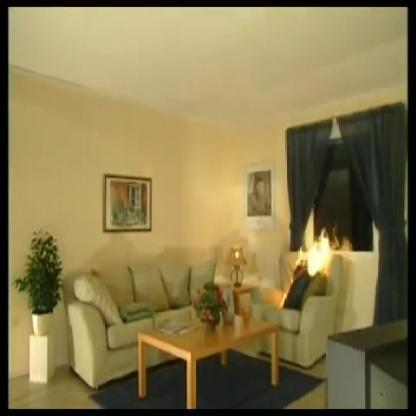fire: (286, 215, 337, 297)
